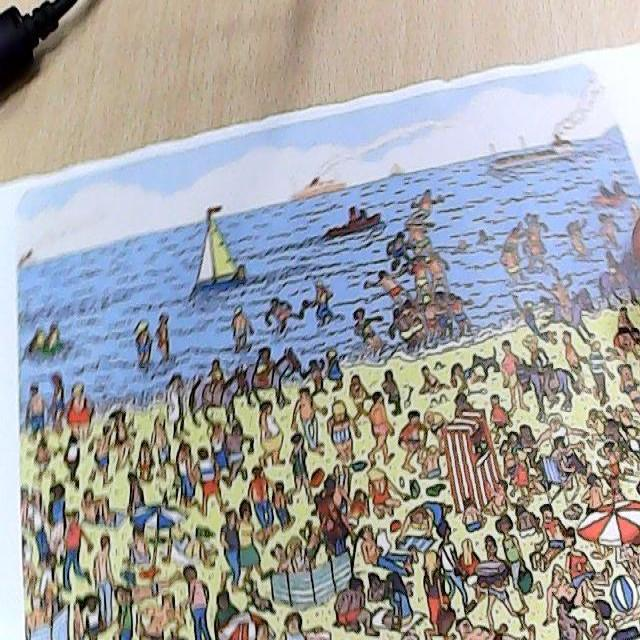waldo: (321, 489, 339, 514)
